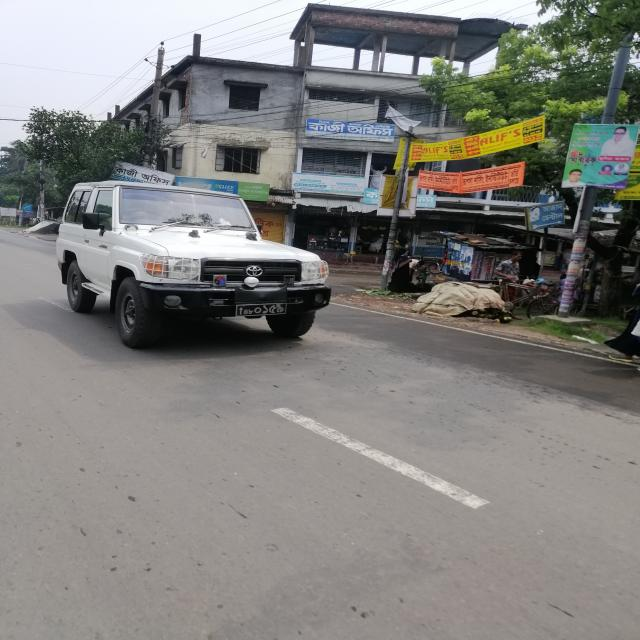Zeep: (50, 177, 334, 350)
